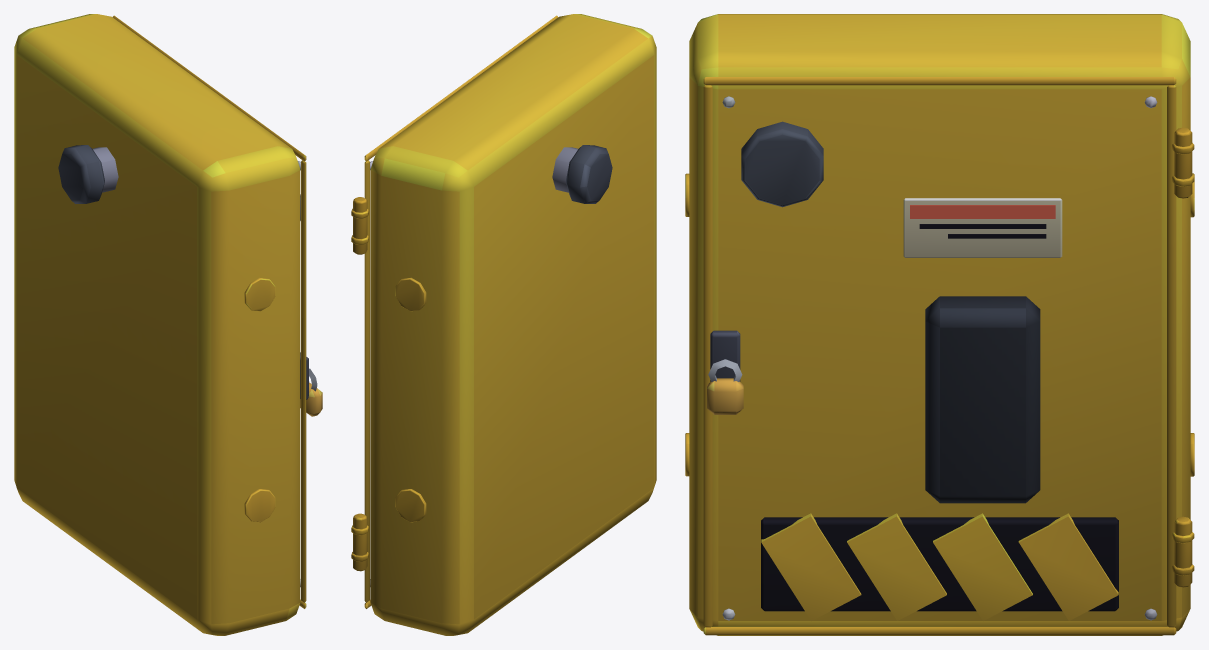
File: SM_Station_ProjectorPowerPanel.fbx
3 views of the same model, side by side, from view 1: azimuth 30°, elevation 25°; view 2: azimuth 150°, elevation 25°; view 3: azimuth 270°, elevation 25° (orthographic). The views are drawn at different scales.
Parts seen in each view (by area): view 1: SM_Station_ProjectorPowerPanel; view 2: SM_Station_ProjectorPowerPanel; view 3: SM_Station_ProjectorPowerPanel.
Boxes of the visible parts, x1=… form: SM_Station_ProjectorPowerPanel: x1=14, y1=14, x2=322, y2=635; SM_Station_ProjectorPowerPanel: x1=351, y1=14, x2=656, y2=635; SM_Station_ProjectorPowerPanel: x1=685, y1=14, x2=1194, y2=635.
Size of the model in its own units: 35.14 by 90.04 by 71.21.
